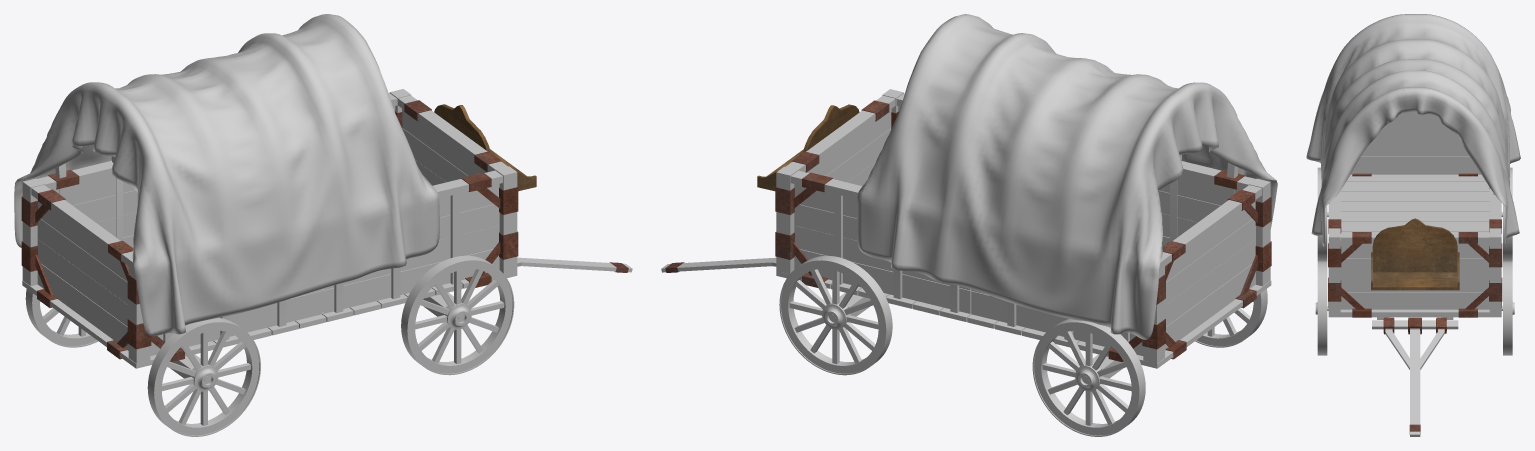
Rendered from Carroza.obj.
3 renders of one model, left to right at view 1: azimuth 30°, elevation 25°; view 2: azimuth 150°, elevation 25°; view 3: azimuth 270°, elevation 25°, orthographic. The views are drawn at different scales.
Visible parts, largest first — view 1: Plane-Cloth, Planks-Wooden-BFLR, Floor-Wooden, Wheel-Wooden-Spores, Wheel-Wooden-Spores.001, Wheel-Wooden-Circle.001, Wheel-Wooden-Circle, Frame-Wooden-BF, Frame-Wooden-Corner, Support-Metal-Corner, Frame-Wooden-Bows, Wheel-Metal-Rim (+7 smaller); view 2: Plane-Cloth, Planks-Wooden-BFLR, Floor-Wooden, Wheel-Wooden-Spores.002, Wheel-Wooden-Spores.003, Wheel-Wooden-Circle.003, Wheel-Wooden-Circle.002, Frame-Wooden-BF, Frame-Wooden-Corner, Support-Metal-Corner, Frame-Wooden-Bows, Wheel-Metal-Rim.002 (+7 smaller); view 3: Plane-Cloth, Planks-Wooden-BFLR, Floor-Wooden, Seat-Wooden-Lean, Drag-Wooden-Main, Seat-Wooden-Base, Frame-Wooden-Corner, Support-Metal-Corner, Wheel-Metal-Rim, Wheel-Metal-Rim.002, Frame-Wooden-LR, Drag-Wooden-Support (+8 smaller).
Part boxes in pixels (left/top/right/bottom): Plane-Cloth: left=14, top=14, right=439, bottom=336; Planks-Wooden-BFLR: left=37, top=106, right=499, bottom=355; Floor-Wooden: left=22, top=271, right=517, bottom=368; Wheel-Wooden-Spores: left=415, top=269, right=504, bottom=363; Wheel-Wooden-Spores.001: left=162, top=331, right=250, bottom=425; Wheel-Wooden-Circle.001: left=155, top=323, right=259, bottom=435; Wheel-Wooden-Circle: left=408, top=261, right=512, bottom=373; Frame-Wooden-BF: left=31, top=95, right=507, bottom=265; Frame-Wooden-Corner: left=22, top=89, right=517, bottom=363; Support-Metal-Corner: left=21, top=111, right=518, bottom=349; Frame-Wooden-Bows: left=55, top=146, right=459, bottom=342; Wheel-Metal-Rim: left=401, top=255, right=514, bottom=375; Plane-Cloth: left=857, top=14, right=1277, bottom=339; Planks-Wooden-BFLR: left=794, top=106, right=1255, bottom=355; Floor-Wooden: left=776, top=271, right=1271, bottom=368; Wheel-Wooden-Spores.002: left=1042, top=331, right=1131, bottom=425; Wheel-Wooden-Spores.003: left=789, top=269, right=878, bottom=363; Wheel-Wooden-Circle.003: left=1034, top=323, right=1138, bottom=435; Wheel-Wooden-Circle.002: left=781, top=261, right=885, bottom=373; Frame-Wooden-BF: left=786, top=95, right=1261, bottom=265; Frame-Wooden-Corner: left=776, top=89, right=1270, bottom=363; Support-Metal-Corner: left=775, top=111, right=1271, bottom=349; Frame-Wooden-Bows: left=834, top=155, right=1238, bottom=342; Wheel-Metal-Rim.002: left=779, top=255, right=892, bottom=375; Plane-Cloth: left=1306, top=14, right=1520, bottom=246; Planks-Wooden-BFLR: left=1340, top=112, right=1489, bottom=309; Floor-Wooden: left=1328, top=174, right=1501, bottom=315; Seat-Wooden-Lean: left=1372, top=218, right=1457, bottom=272; Drag-Wooden-Main: left=1385, top=329, right=1444, bottom=436; Seat-Wooden-Base: left=1372, top=272, right=1457, bottom=290; Frame-Wooden-Corner: left=1328, top=232, right=1501, bottom=312; Support-Metal-Corner: left=1328, top=243, right=1502, bottom=301; Wheel-Metal-Rim: left=1317, top=261, right=1327, bottom=355; Wheel-Metal-Rim.002: left=1503, top=261, right=1512, bottom=355; Frame-Wooden-LR: left=1328, top=187, right=1501, bottom=232; Drag-Wooden-Support: left=1372, top=320, right=1458, bottom=329.
Bounding box in the file's own units: 6.05 × 3.32 × 2.67.
